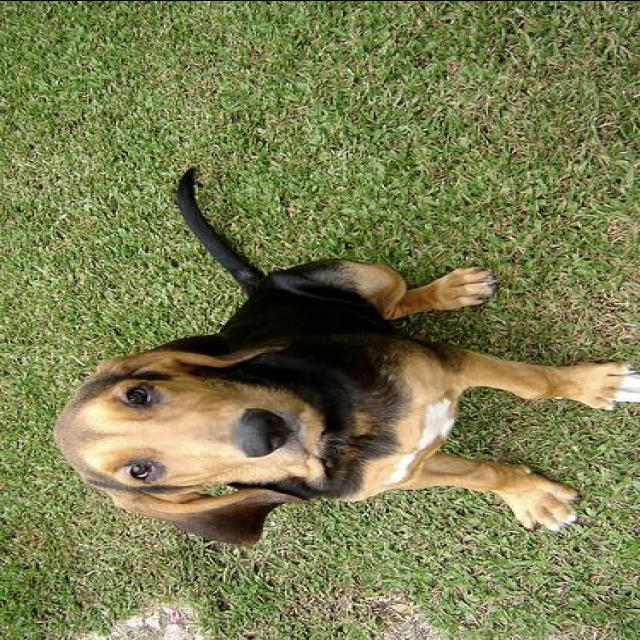bloodhound: (49, 160, 638, 548)
